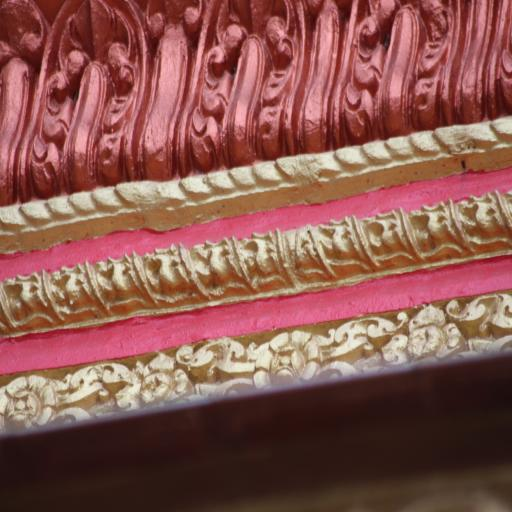hoa: (124, 352, 190, 410), (0, 366, 57, 432), (255, 332, 319, 384), (394, 308, 456, 360)
la: (23, 0, 144, 196), (183, 0, 307, 176), (330, 0, 458, 146), (135, 0, 202, 180), (290, 0, 345, 151), (316, 314, 396, 386), (57, 358, 129, 424), (188, 338, 258, 405), (455, 299, 512, 358)
